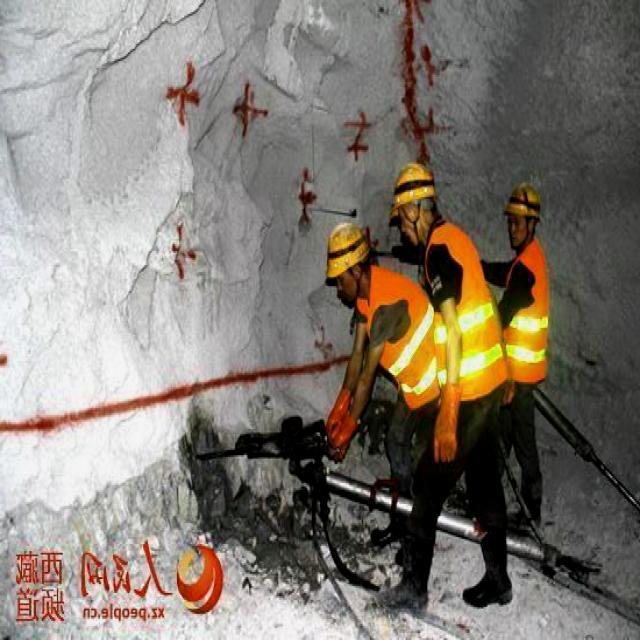face_nomask: (333, 258, 364, 311), (397, 200, 430, 248), (505, 210, 536, 250)
hand_glove: (424, 378, 466, 476), (322, 382, 353, 460)
head_helmet: (325, 223, 369, 272), (389, 164, 440, 202), (502, 182, 542, 216)
person: (388, 162, 508, 588), (327, 222, 431, 454), (494, 178, 550, 523)
shoes: (462, 538, 513, 613), (371, 562, 434, 618)
vest: (432, 224, 497, 392), (361, 276, 436, 398), (506, 249, 549, 375)
